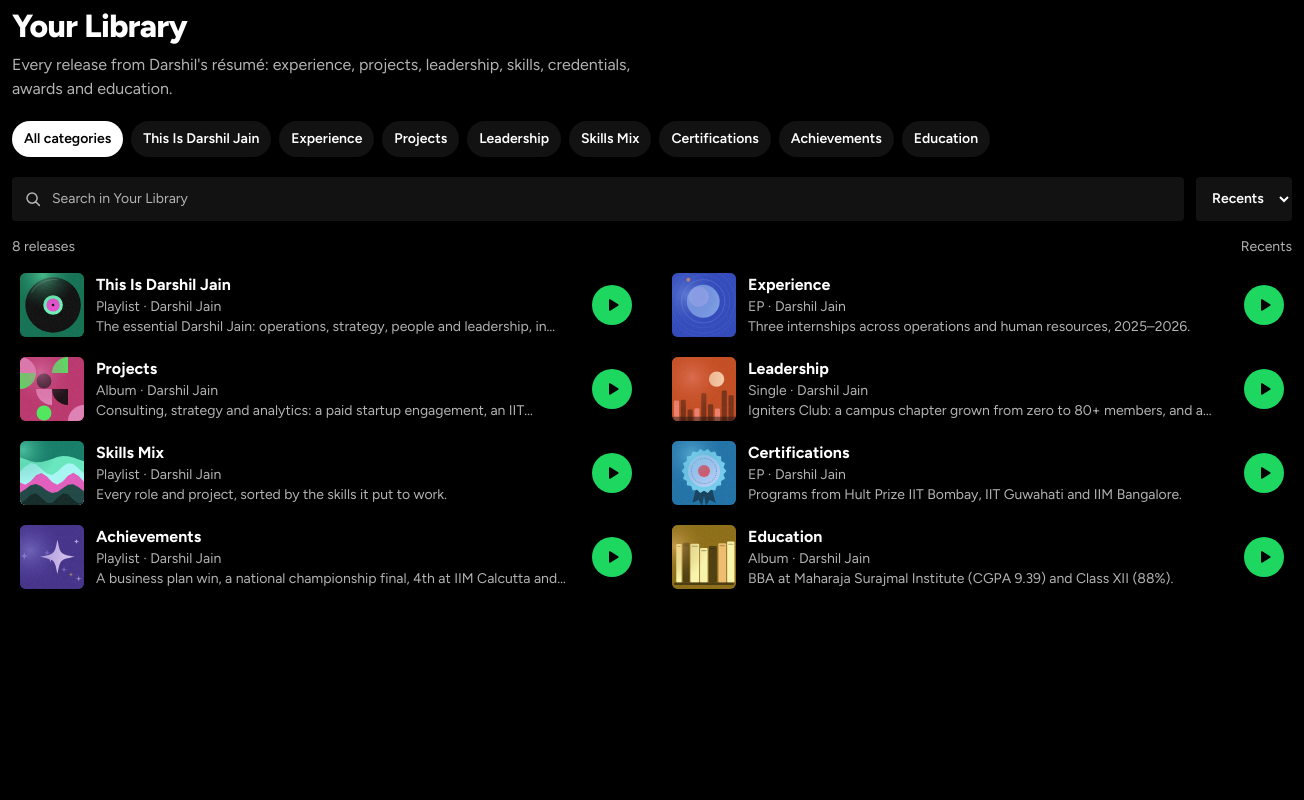
Test: Career Library › filters releases with a labelled field and presents a clear empty state
Type "certification" into the search field named "Search Your Library" at x=598, y=199, box [12, 177, 1184, 221]
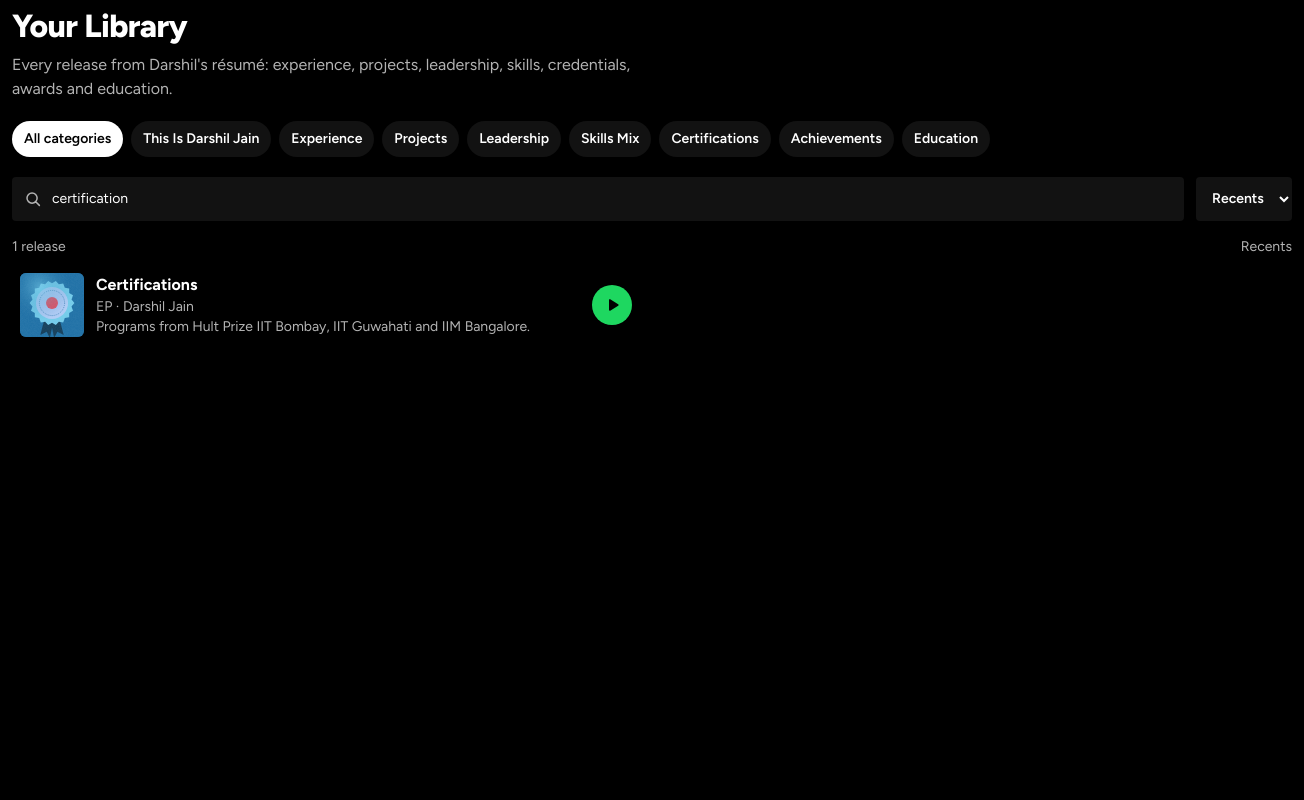
Check: the heading "Certifications" is shown, box [96, 275, 197, 294]
Replace the text in the search field named "Search Your Library" with "not in the library" at x=598, y=199, box [12, 177, 1184, 221]
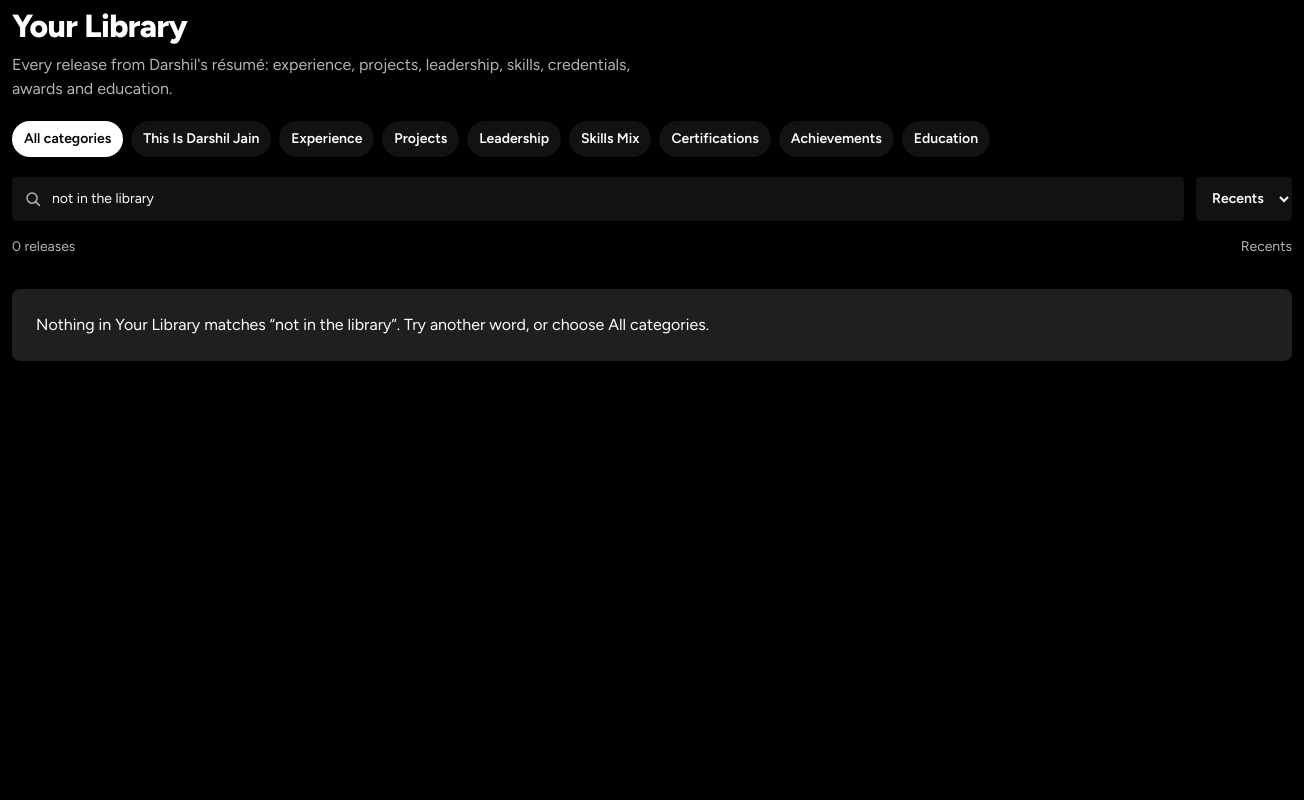
Check: the message shows "Nothing in Your Library matches", box [36, 315, 275, 334]
